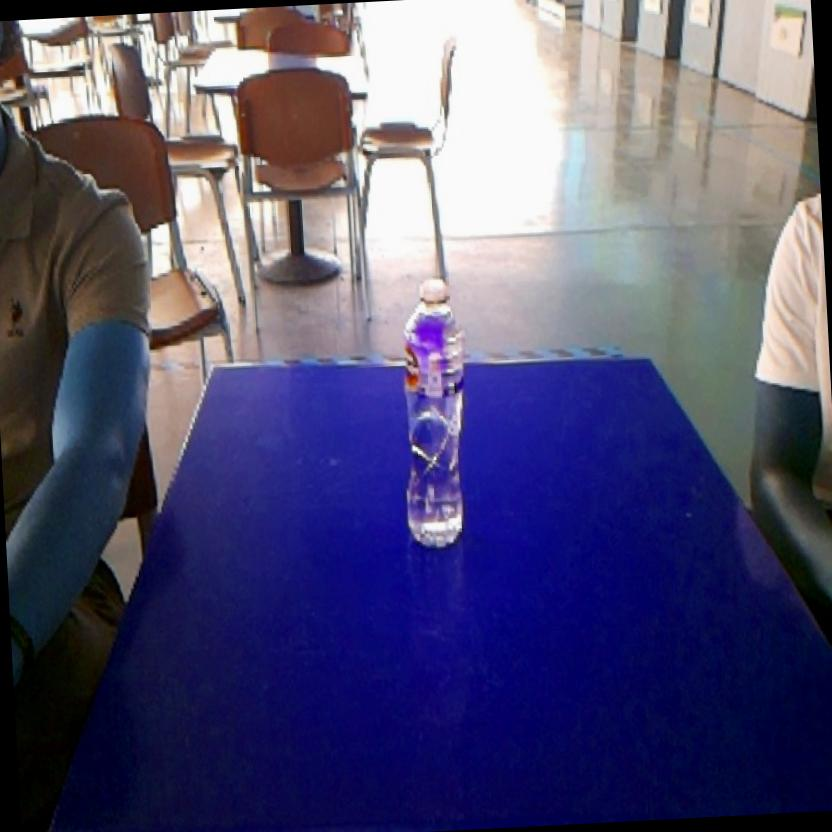no_cap: (386, 266, 486, 560)
